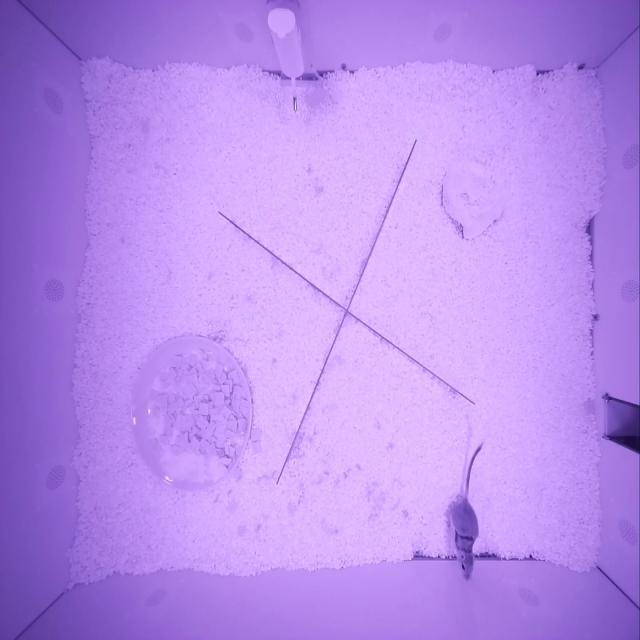adult_front: (451, 497, 479, 583)
